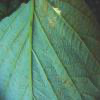Raspberry leaf: (1, 1, 100, 100)
